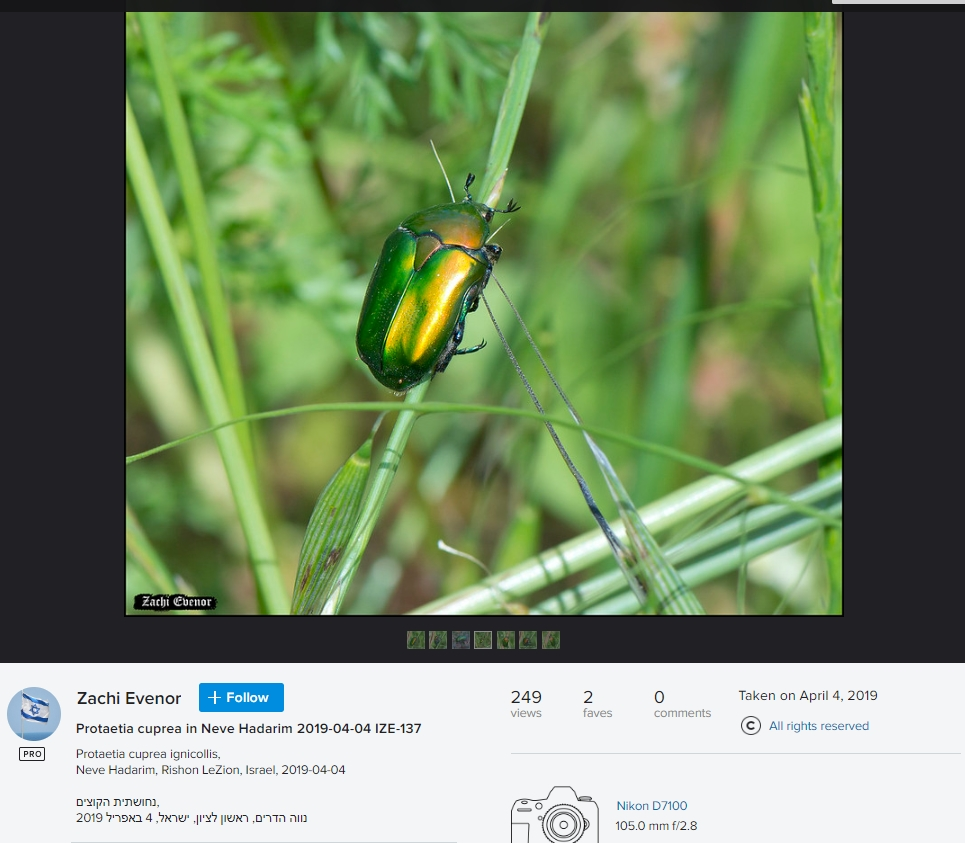Protaetia_cuprea_ignicollis: (341, 155, 530, 396)
